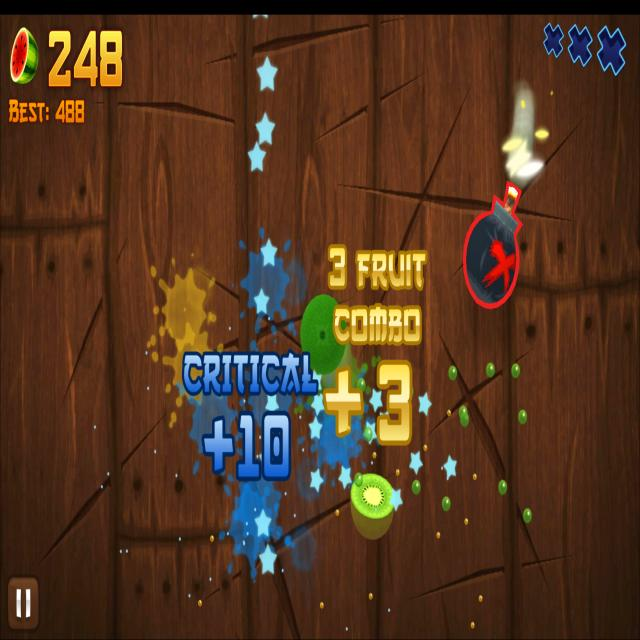bomb: (462, 181, 524, 311)
fruit: (300, 293, 350, 375)
